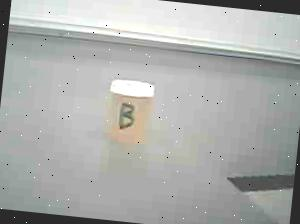Bottle B: (102, 74, 164, 154)
